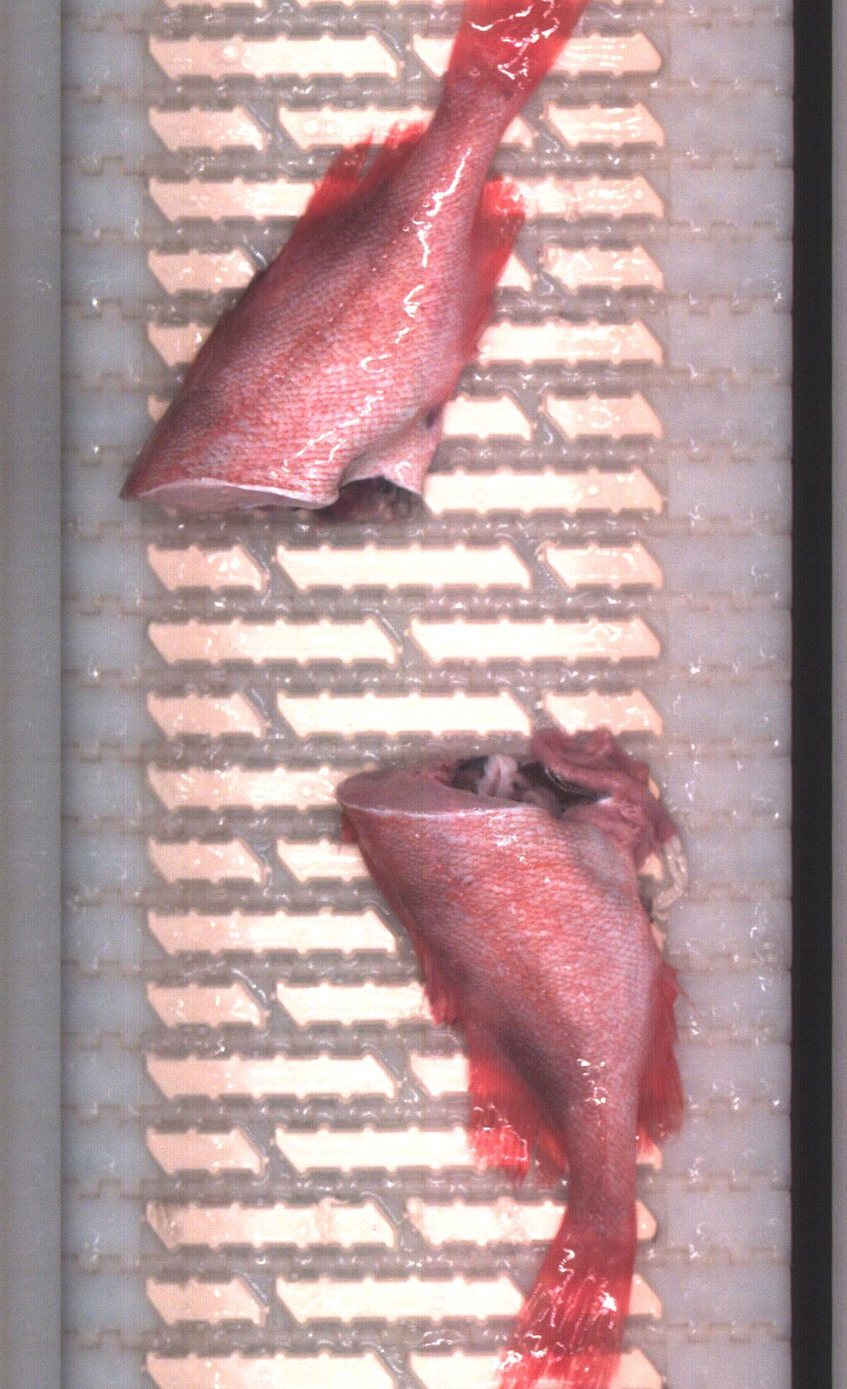Fish: (122, 0, 586, 521), (337, 730, 683, 1389)
